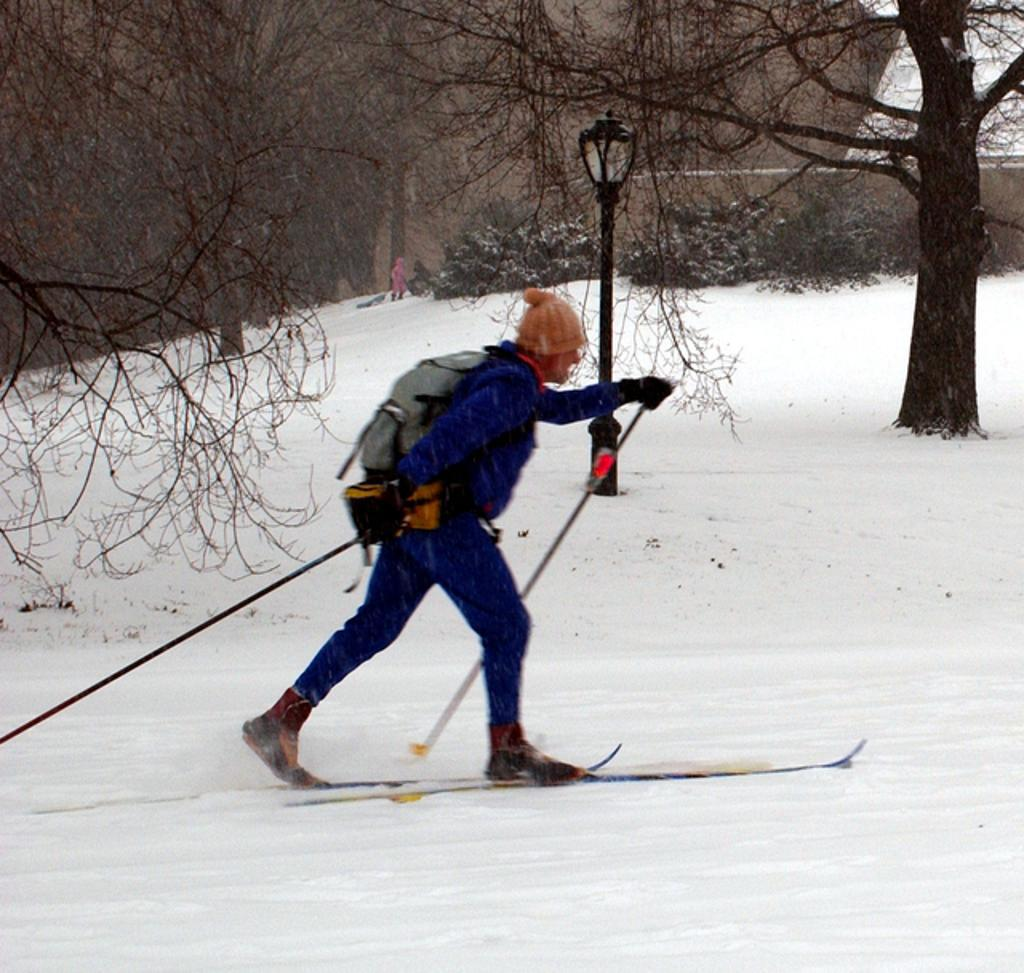face: (549, 328, 580, 385)
